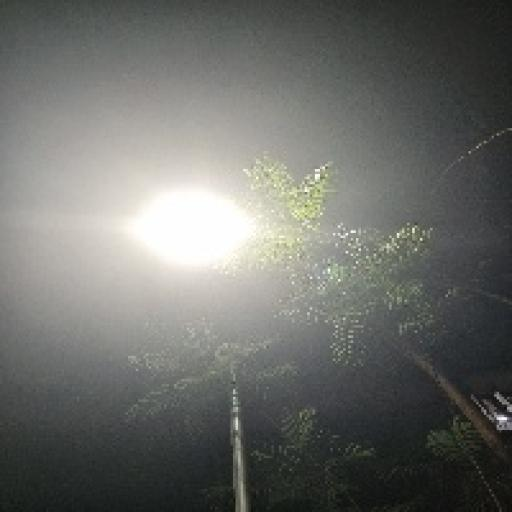Working: (116, 167, 294, 302)
